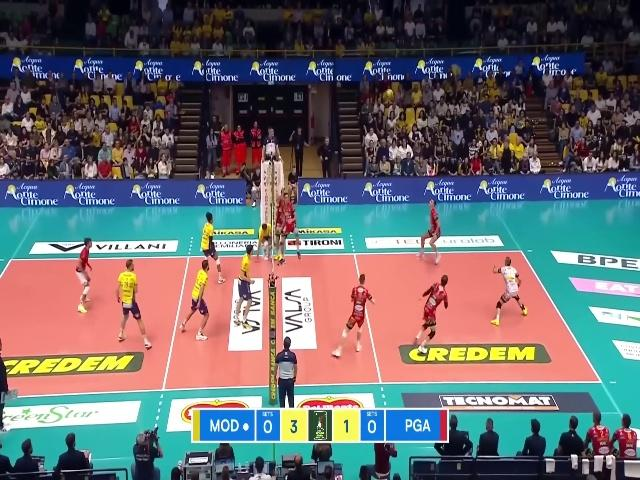volleyball court: (0, 250, 605, 392)
